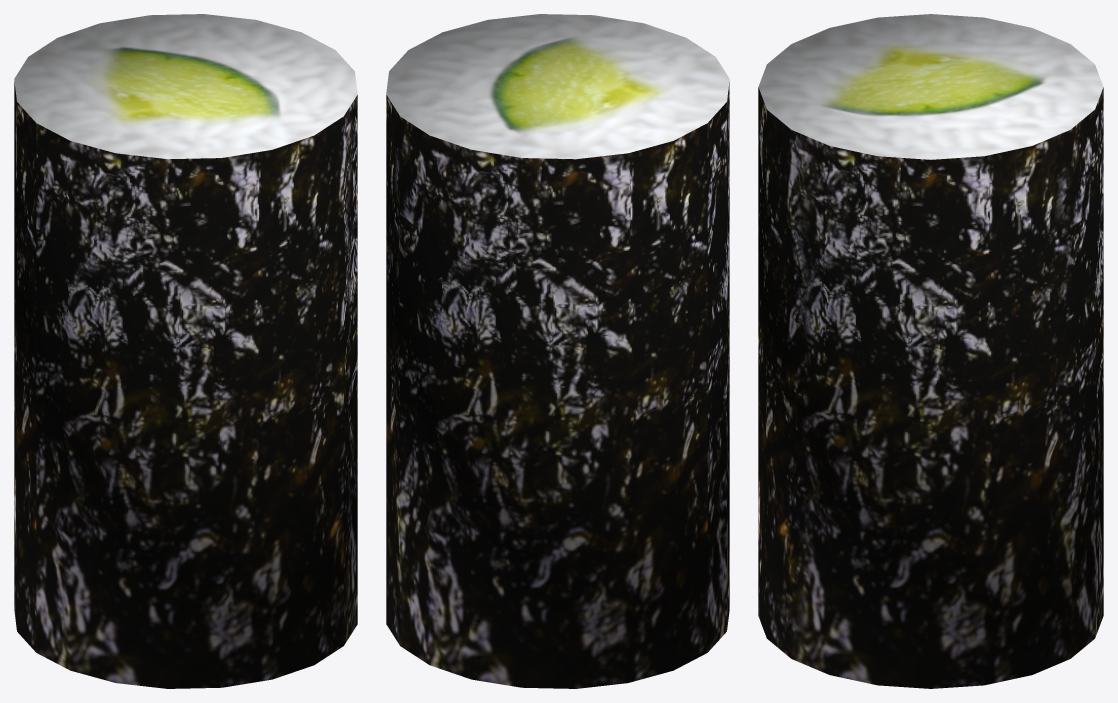
Rendered from kappa.fbx.
The picture shows the model from 3 angles, left to right: view 1: azimuth 30°, elevation 25°; view 2: azimuth 150°, elevation 25°; view 3: azimuth 270°, elevation 25°; orthographic projection.
Visible parts, largest first — view 1: kappa; view 2: kappa; view 3: kappa.
Boxes of the visible parts, x1,y1,x2,y2 form: kappa: (14, 14, 357, 688); kappa: (386, 14, 729, 688); kappa: (758, 14, 1103, 688).
Size of the model in its own units: 3 by 5.08 by 3.
